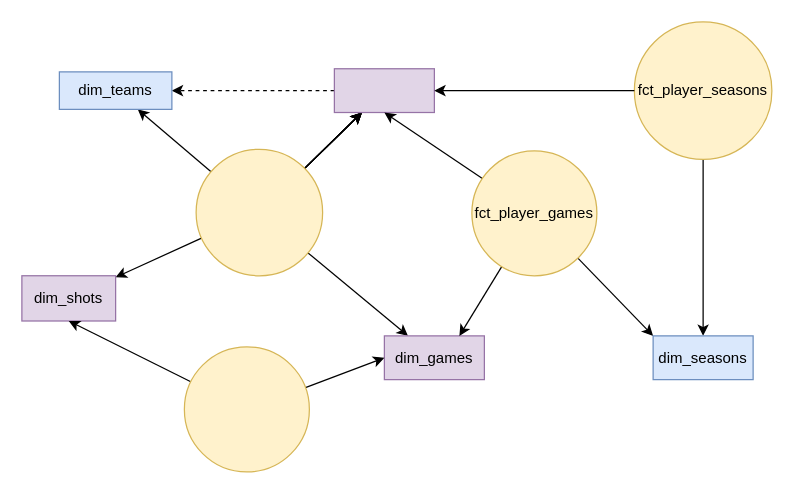
This 794x494 diagram has some shape labels left out. The box of each missing label's shape, as (x1, y1, x2, y2) in pixels:
dim_players: (333, 68, 434, 112)
fct_shots: (195, 148, 323, 276)
fct_win_pct: (183, 346, 309, 472)
